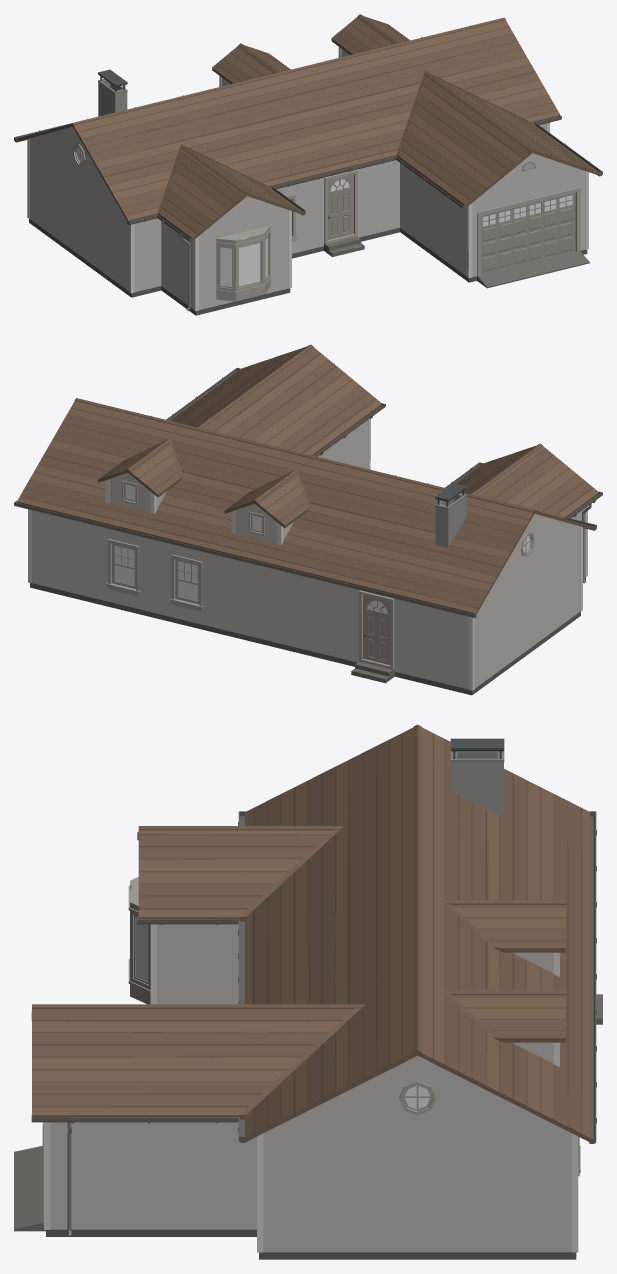
Rendered from SM_Bldg_Suburb_House_03.fbx.
The picture shows the model from 3 angles, top to bottom: view 1: azimuth 30°, elevation 25°; view 2: azimuth 150°, elevation 25°; view 3: azimuth 270°, elevation 25°; orthographic projection. The views are drawn at different scales.
Parts seen in each view (by area): view 1: SM_Bldg_Suburb_House_03, SM_Bldg_Suburb_House_03_Glass; view 2: SM_Bldg_Suburb_House_03, SM_Bldg_Suburb_House_03_Glass; view 3: SM_Bldg_Suburb_House_03, SM_Bldg_Suburb_House_03_Glass.
Boxes of the visible parts, x1,y1,x2,y2 form: SM_Bldg_Suburb_House_03: (14,14,602,315); SM_Bldg_Suburb_House_03_Glass: (76,147,267,286); SM_Bldg_Suburb_House_03: (14,344,602,695); SM_Bldg_Suburb_House_03_Glass: (115,484,530,601); SM_Bldg_Suburb_House_03: (14,724,602,1259); SM_Bldg_Suburb_House_03_Glass: (136,918,430,1108).
Size of the model in its own units: 1816 by 624 by 1382.
